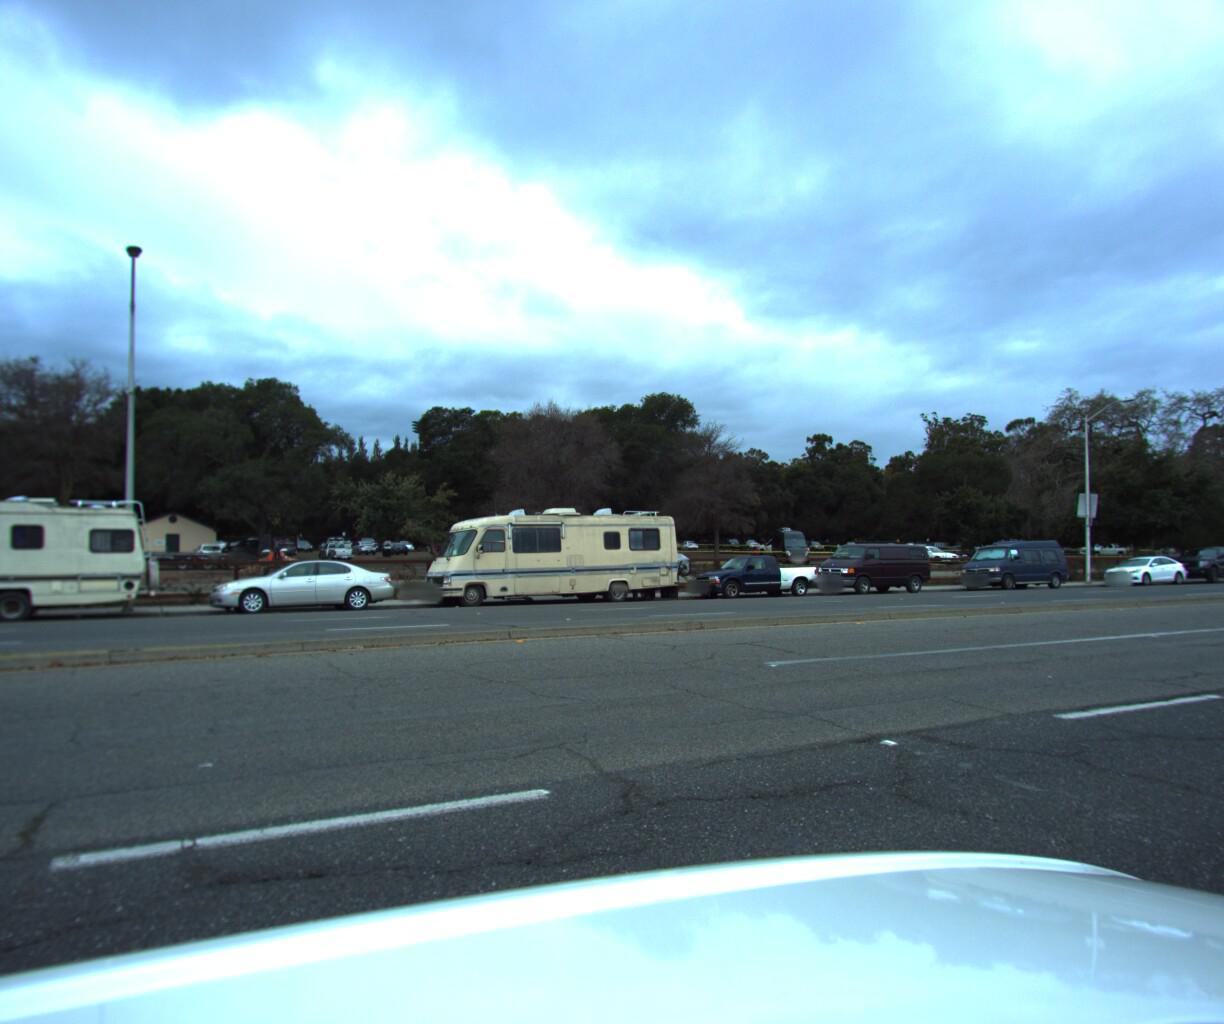car: (200, 555, 399, 615), (686, 549, 823, 601), (807, 538, 934, 593), (950, 538, 1069, 587), (1090, 550, 1186, 584), (1155, 541, 1224, 580)
other_vehicle: (412, 499, 690, 610), (0, 476, 164, 638)
